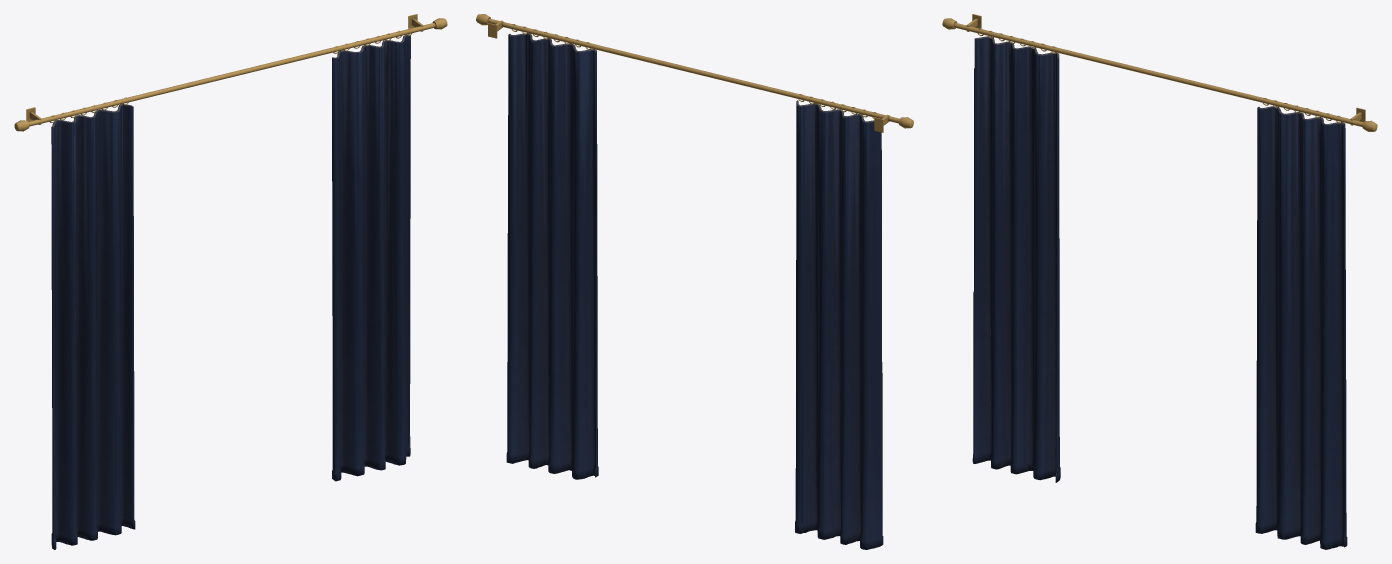
The model's file is drapes_navy.glb.
3 renders of one model, left to right at view 1: azimuth 30°, elevation 25°; view 2: azimuth 150°, elevation 25°; view 3: azimuth 330°, elevation 25°, orthographic.
Visible parts, largest first — view 1: drapes_navy; view 2: drapes_navy; view 3: drapes_navy.
Boxes of the visible parts, bbox=[...] form: drapes_navy: bbox=[14, 14, 447, 549]; drapes_navy: bbox=[476, 14, 913, 549]; drapes_navy: bbox=[942, 14, 1377, 549].
Size of the model in its own units: 2.4 by 2.31 by 0.1403.
1 material, 1 textured.
